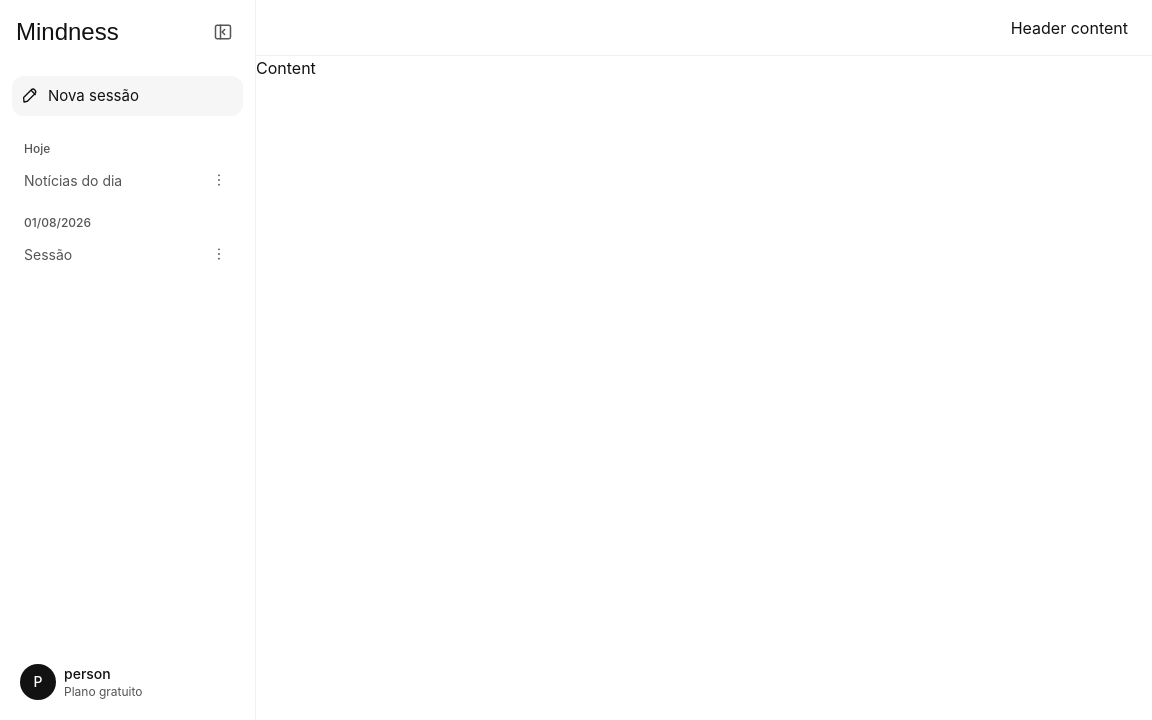
Test case: AuthenticatedShell › deletes the confirmed session and refreshes the sidebar list
Click the button named "Ações de Notícias do dia".
click(219, 180)  # box [205,166,233,194]
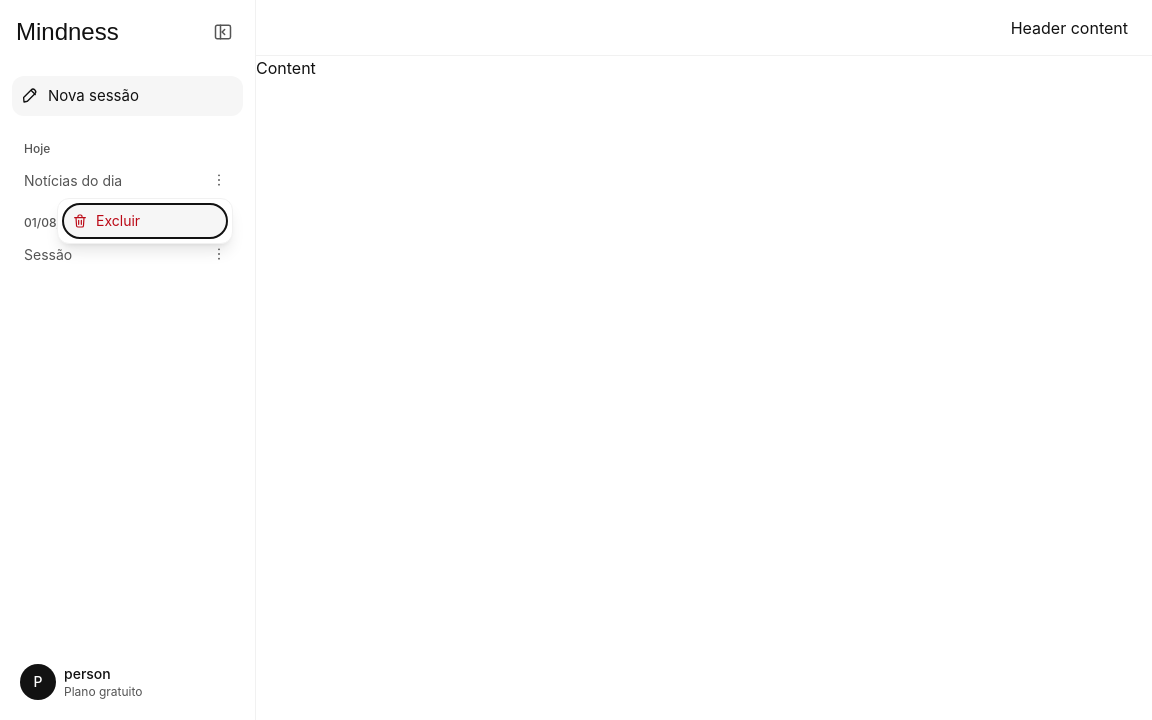
Click the menu item "Excluir".
click(145, 221)  # box [62,203,228,239]
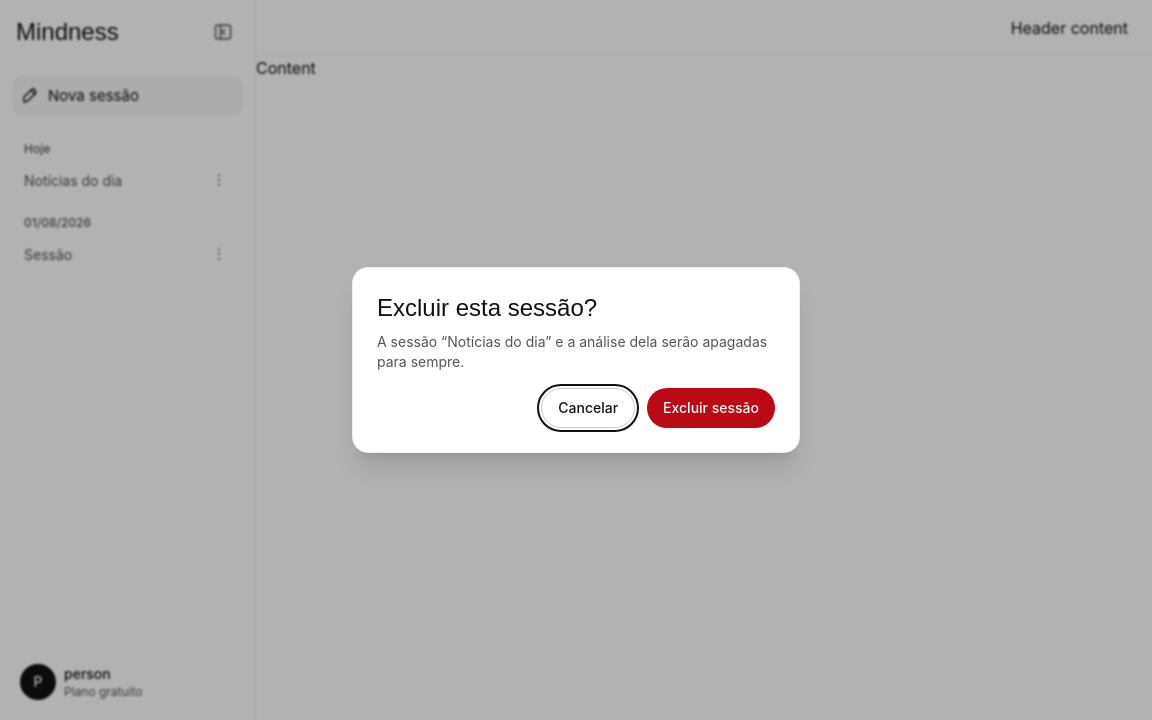
Click the button "Excluir sessão".
click(711, 408)  # box [647,388,775,428]
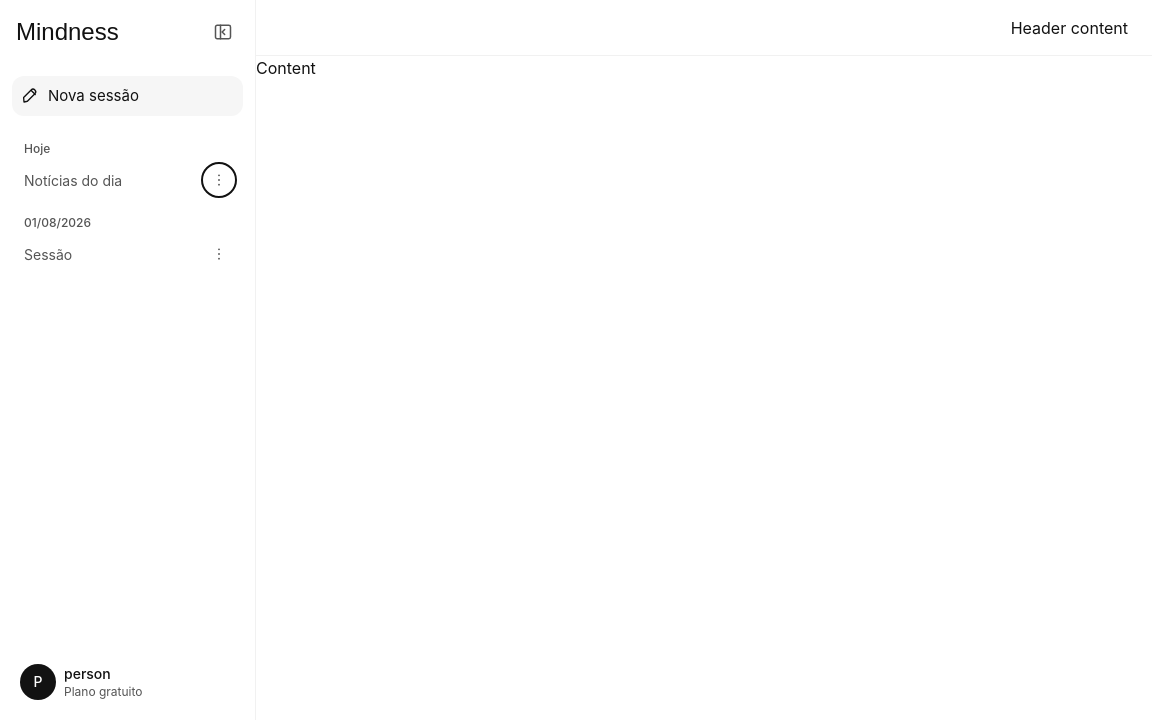
Expected: the heading "Excluir esta sessão?" is gone
